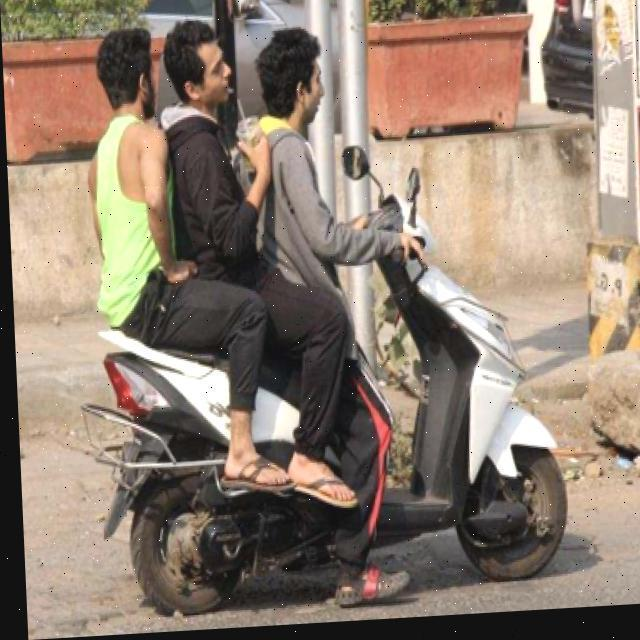Helmet: (251, 26, 330, 136)
